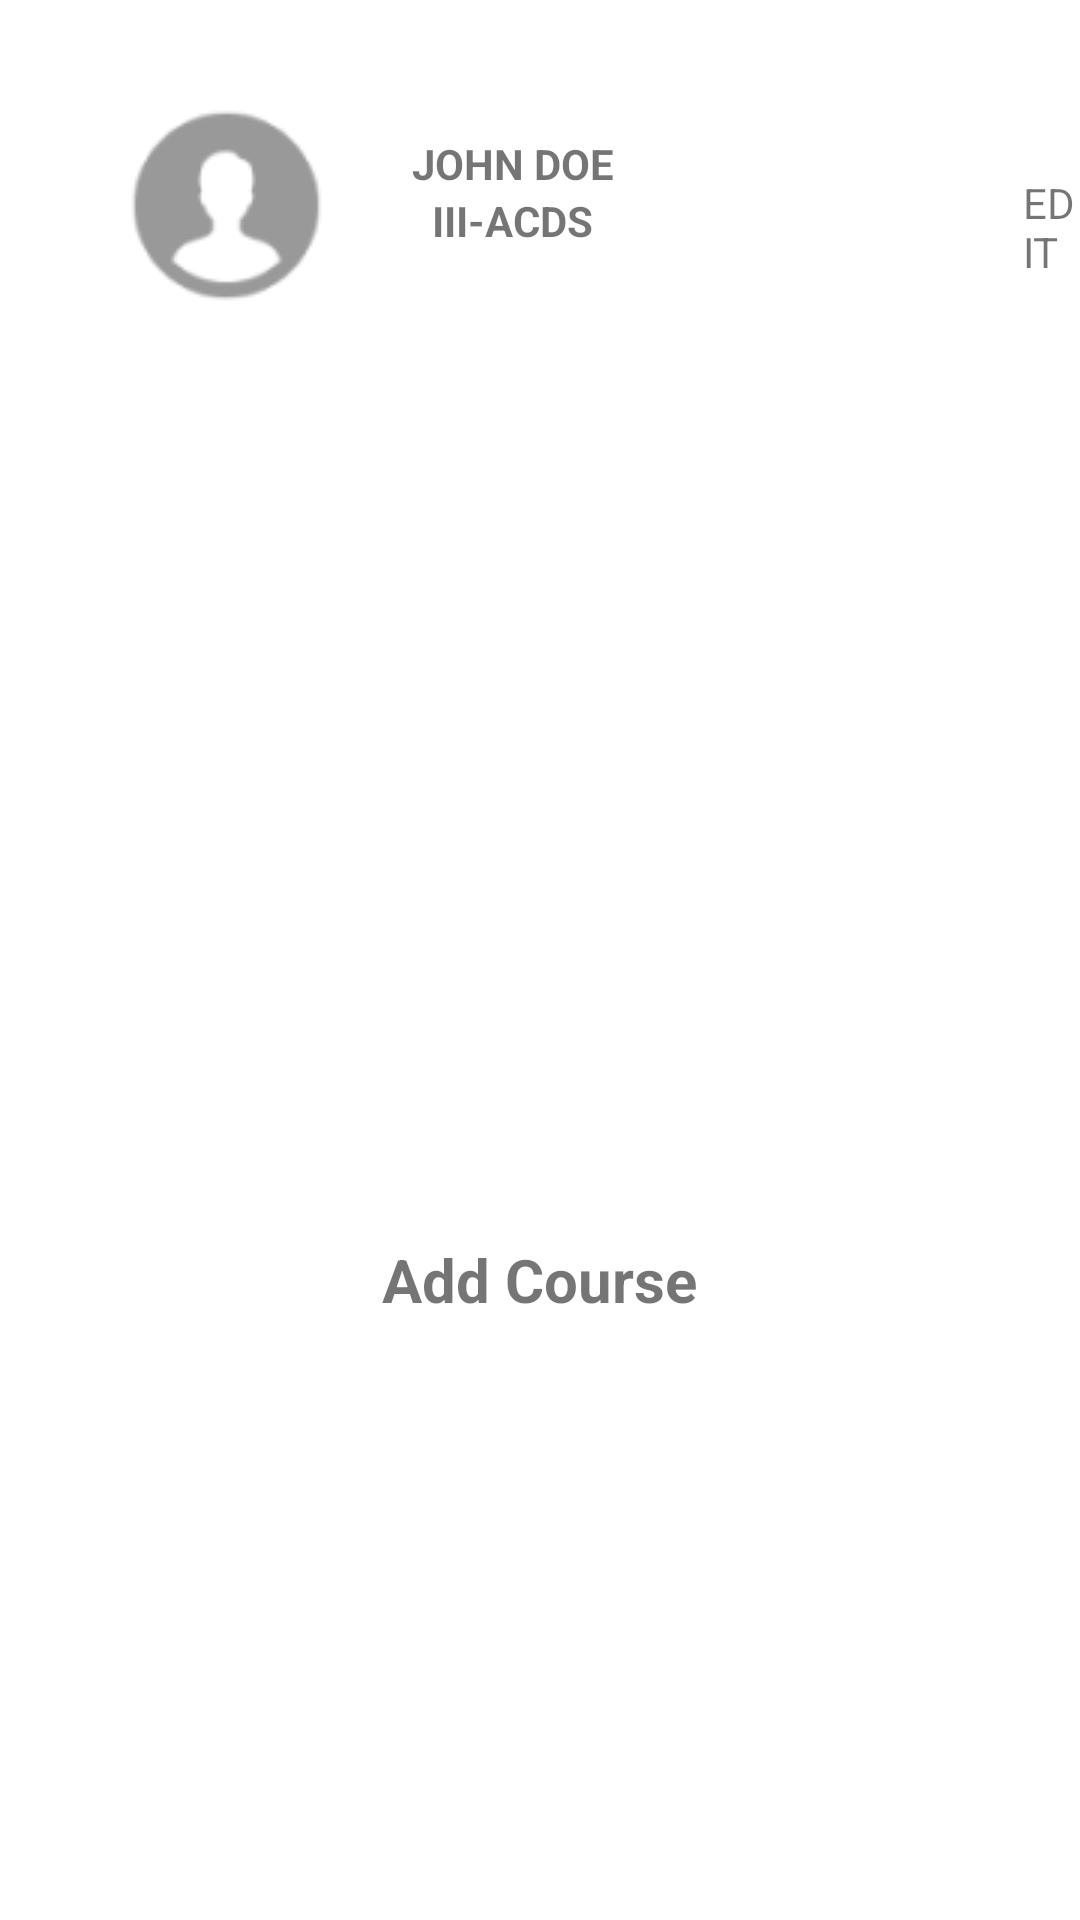

Icon bounding boxes for this 1080px x 1920px phone screenshot, format box(x1, y1, x2, y2):
user: box(133, 112, 320, 299)
